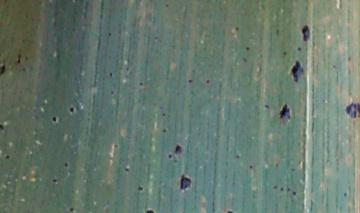tarspot: (291, 60, 304, 83), (344, 103, 360, 119), (180, 173, 192, 192), (280, 104, 292, 121), (301, 24, 310, 42), (175, 144, 184, 154), (16, 53, 23, 65), (1, 64, 7, 77), (51, 115, 58, 123), (69, 106, 76, 113), (51, 177, 58, 184), (124, 166, 131, 173), (241, 56, 248, 63), (63, 161, 69, 168), (4, 153, 10, 160), (138, 81, 145, 87), (234, 25, 240, 32), (292, 190, 298, 197), (112, 143, 119, 149), (226, 209, 236, 213), (275, 28, 280, 36), (69, 207, 75, 213), (138, 186, 144, 192), (167, 153, 173, 159), (145, 209, 154, 213), (245, 46, 251, 52), (282, 51, 288, 57), (109, 90, 115, 96), (205, 79, 212, 84), (236, 153, 241, 160), (332, 63, 337, 70), (108, 32, 113, 38), (164, 3, 170, 8), (264, 105, 270, 110), (273, 185, 279, 190), (343, 192, 348, 198), (25, 55, 29, 62), (162, 128, 167, 133), (109, 72, 114, 77), (280, 187, 285, 192), (297, 47, 302, 52), (1, 124, 5, 130), (189, 79, 193, 84), (162, 112, 166, 117), (347, 56, 351, 61), (250, 164, 253, 169)
